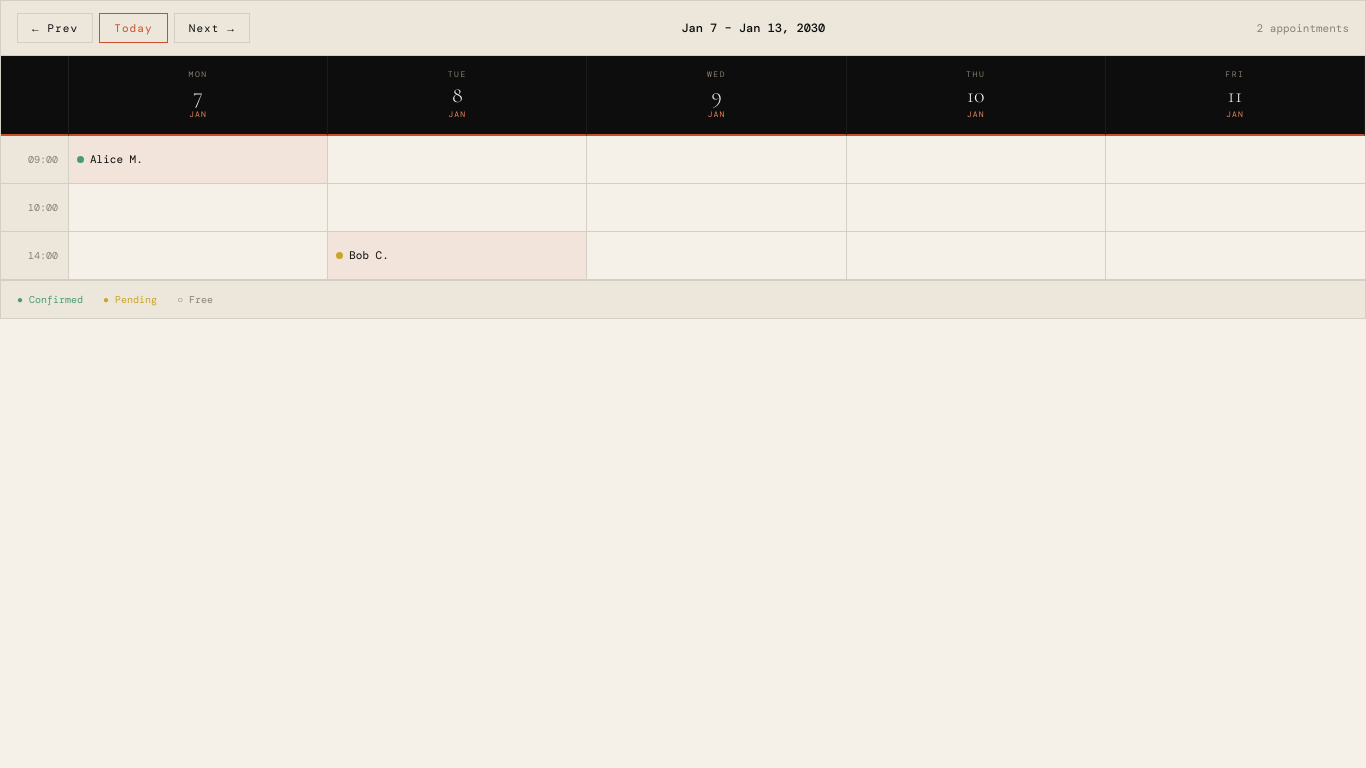
Test: AppointmentsGrid › clicking a booked cell opens the detail drawer
The image size is (1366, 768).
Expected: the table with class "appts-grid__table" is shown, [1,56,1365,136]
What coordinates should you click on to do the following:
click the cell with class "appts-grid__cell--booked" showing "Alice M."
I would click on:
 (199, 160)
Its box is [69,136,328,184].
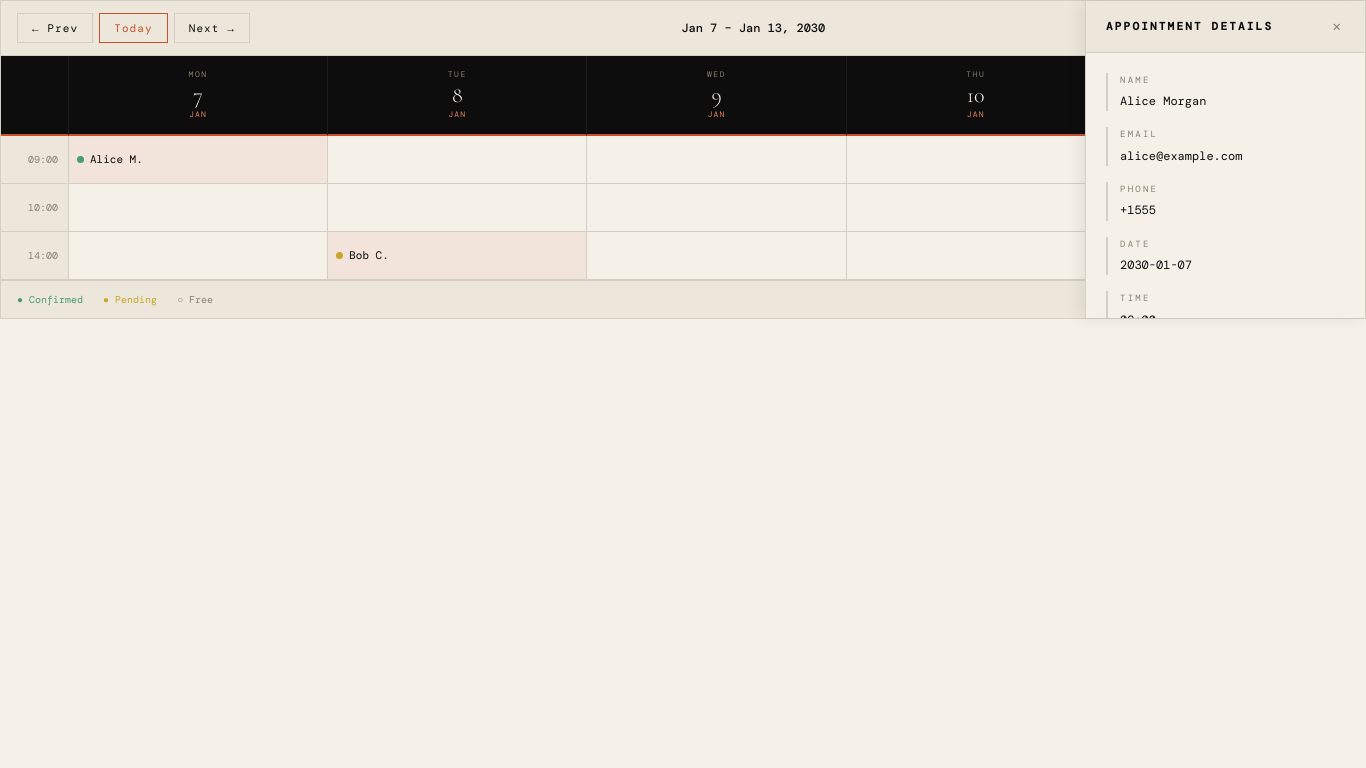
Result: the heading "Appointment details" is shown at [1106,17,1273,36]
